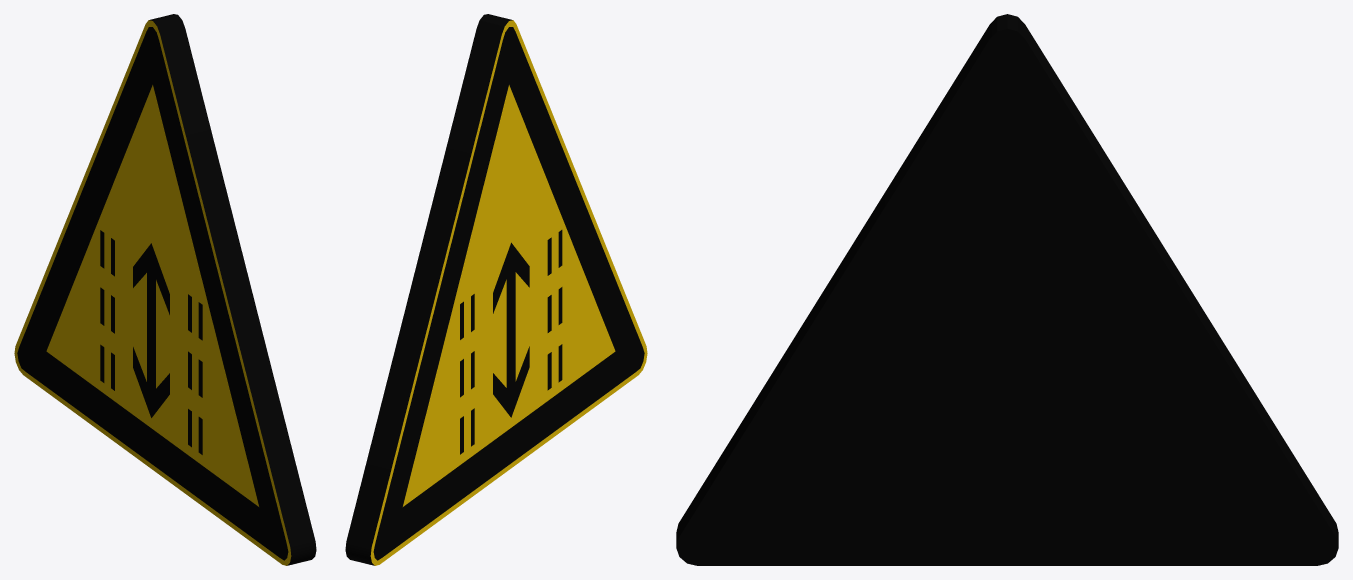
File: Attention_Tide_Lanes.fbx
3 renders of one model, left to right at view 1: azimuth 30°, elevation 25°; view 2: azimuth 150°, elevation 25°; view 3: azimuth 270°, elevation 25°, orthographic. The views are drawn at different scales.
Parts seen in each view (by area): view 1: Attention_Tide_Lanes; view 2: Attention_Tide_Lanes; view 3: Attention_Tide_Lanes.
Boxes of the visible parts, box(x1,y1,x2,y2) form: Attention_Tide_Lanes: box(14, 14, 316, 565); Attention_Tide_Lanes: box(345, 14, 647, 565); Attention_Tide_Lanes: box(676, 14, 1338, 565).
Bounding box in the file's own units: 0.0643 × 1.02 × 1.14.
